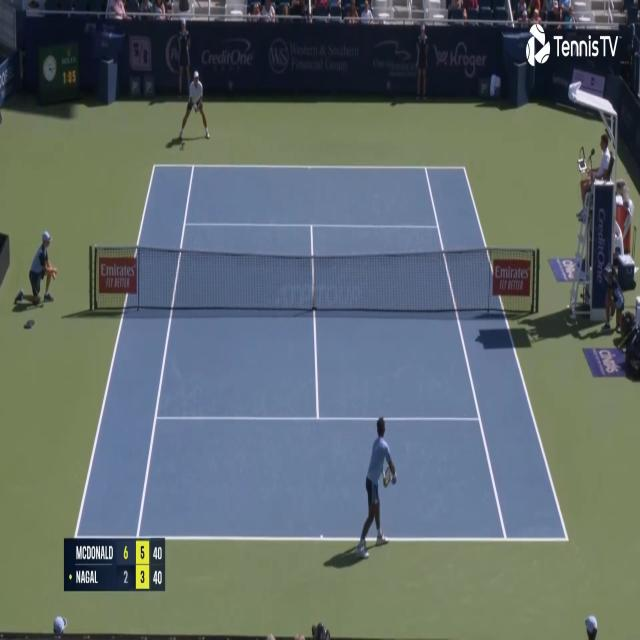tennis-player: (352, 412, 399, 563), (178, 68, 212, 146)
